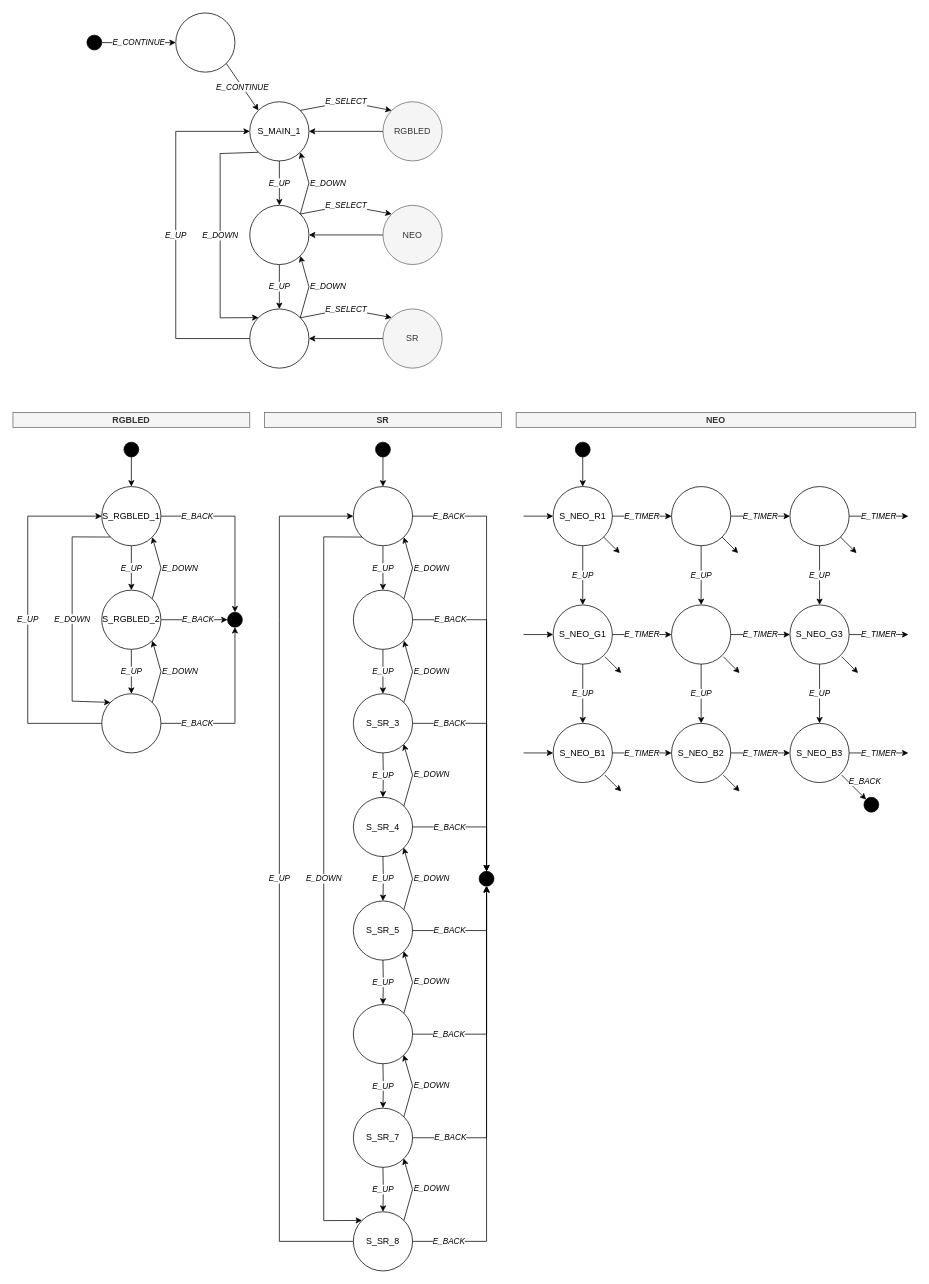
Some shapes in this 929 by 1284 pixel diagram are drawn without their labels. The centre of each missing label's shape, as x and y in pixels:
"S_INIT" belongs at (x=205, y=42).
"S_MAIN_2" belongs at (x=279, y=235).
"S_MAIN_3" belongs at (x=279, y=338).
"S_NEO_G2" belongs at (x=701, y=634).
"S_NEO_R2" belongs at (x=701, y=516).
"S_NEO_R3" belongs at (x=819, y=516).
"S_RGBLED_3" belongs at (x=131, y=723).
"S_SR_1" belongs at (x=383, y=516).
"S_SR_2" belongs at (x=383, y=619).
"S_SR_6" belongs at (x=383, y=1034).
